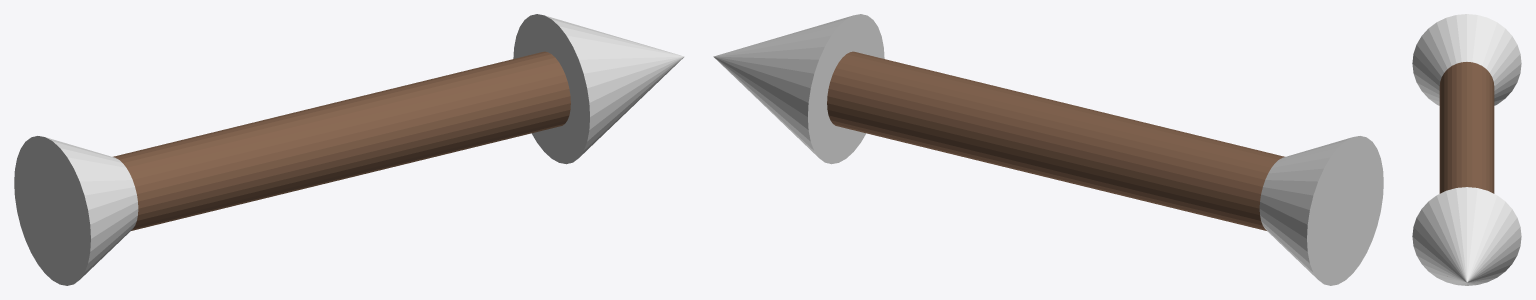
File: Arrow.fbx
3 renders of one model, left to right at view 1: azimuth 30°, elevation 25°; view 2: azimuth 150°, elevation 25°; view 3: azimuth 270°, elevation 25°, orthographic. The views are drawn at different scales.
Visible parts, largest first — view 1: Cylinder, Cone.002, Cone; view 2: Cylinder, Cone.002, Cone; view 3: Cone, Cylinder, Cone.002.
Boxes of the visible parts, x1,y1,x2,y2 form: Cylinder: [113, 51, 570, 230]; Cone.002: [14, 136, 138, 285]; Cone: [513, 14, 684, 164]; Cylinder: [827, 51, 1284, 230]; Cone.002: [1259, 136, 1383, 285]; Cone: [713, 14, 884, 164]; Cone: [1412, 187, 1521, 285]; Cylinder: [1439, 62, 1494, 193]; Cone.002: [1412, 14, 1521, 105].
Size of the model in its own units: 1.9 by 0.4 by 0.4.
